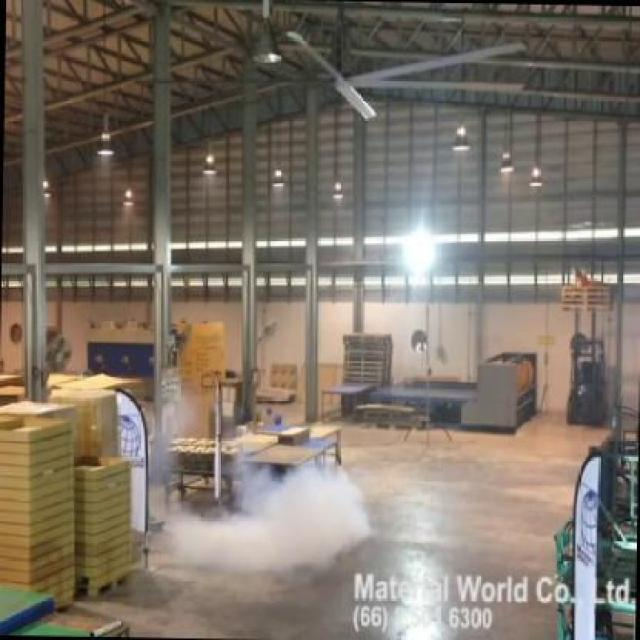fire: (164, 464, 373, 572)
